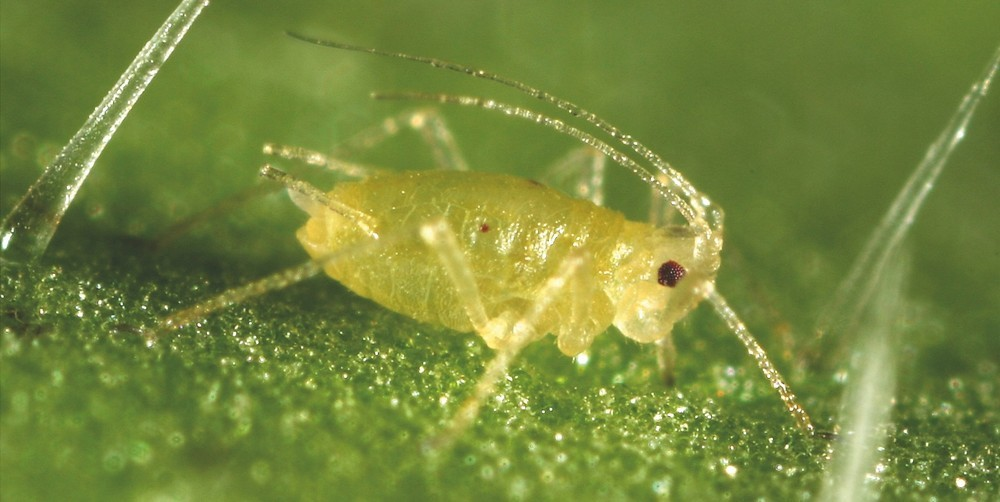Pulgon: (182, 28, 815, 448)
